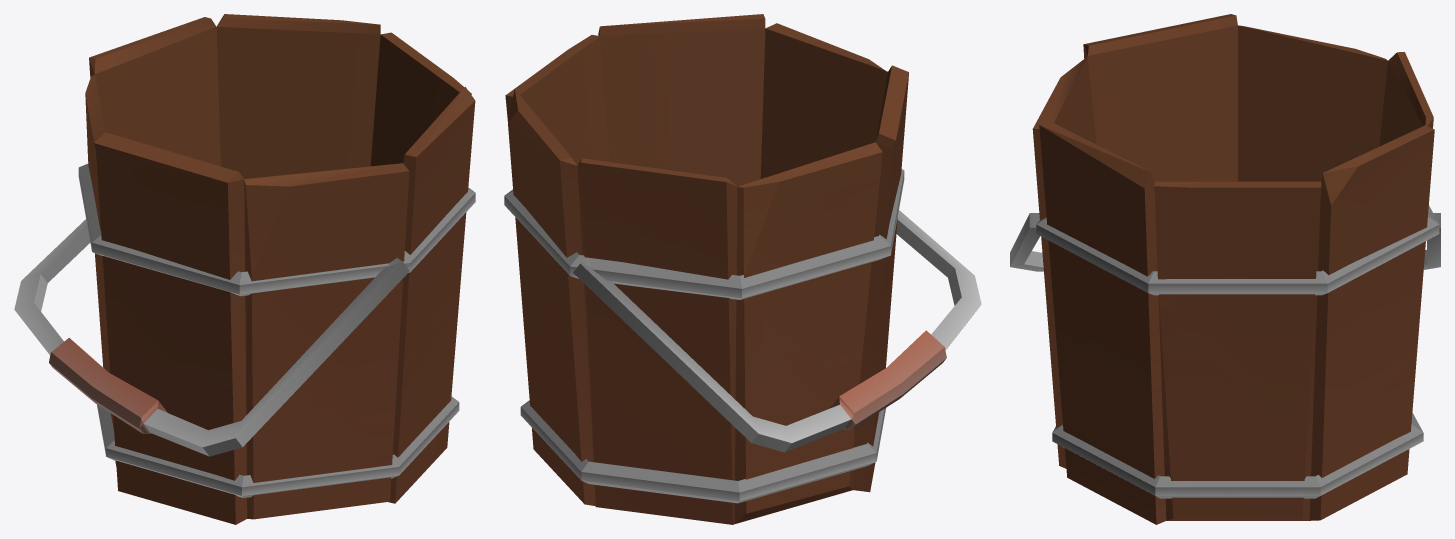
The model's file is Bucket2.fbx.
3 renders of one model, left to right at view 1: azimuth 30°, elevation 25°; view 2: azimuth 150°, elevation 25°; view 3: azimuth 270°, elevation 25°, orthographic.
Visible parts, largest first — view 1: Bucket2; view 2: Bucket2; view 3: Bucket2.
Part boxes in pixels (x1=…): Bucket2: x1=14, y1=14, x2=475, y2=524; Bucket2: x1=504, y1=14, x2=981, y2=524; Bucket2: x1=1010, y1=14, x2=1440, y2=524.
Size of the model in its own units: 0.00411 by 0.00407 by 0.0044.
